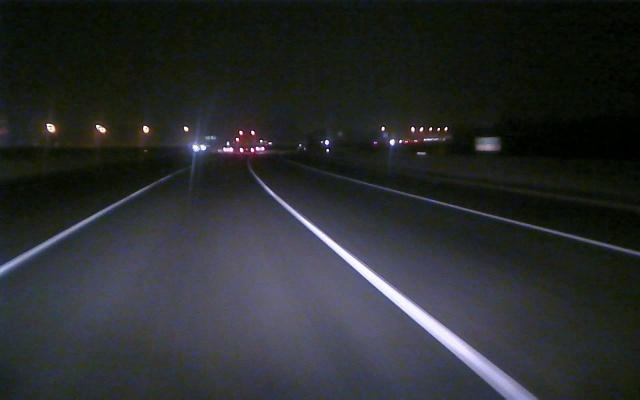lane: (259, 182, 539, 399), (366, 181, 640, 257), (2, 182, 155, 275)
